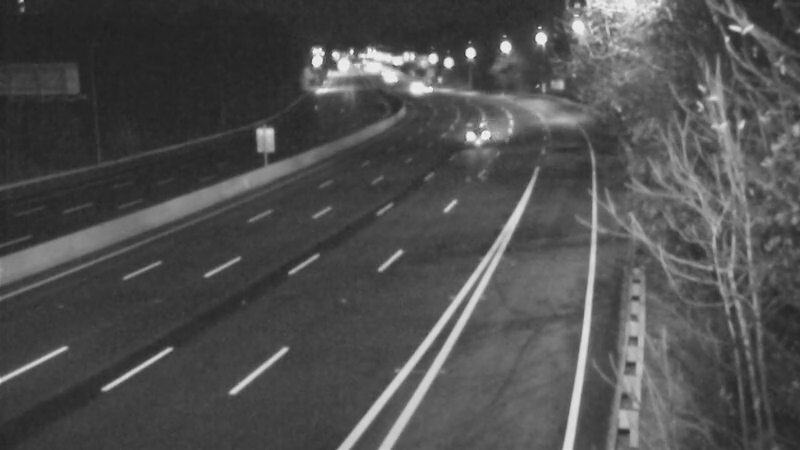vehicle: (389, 61, 439, 111), (400, 66, 450, 116), (451, 109, 501, 159)
